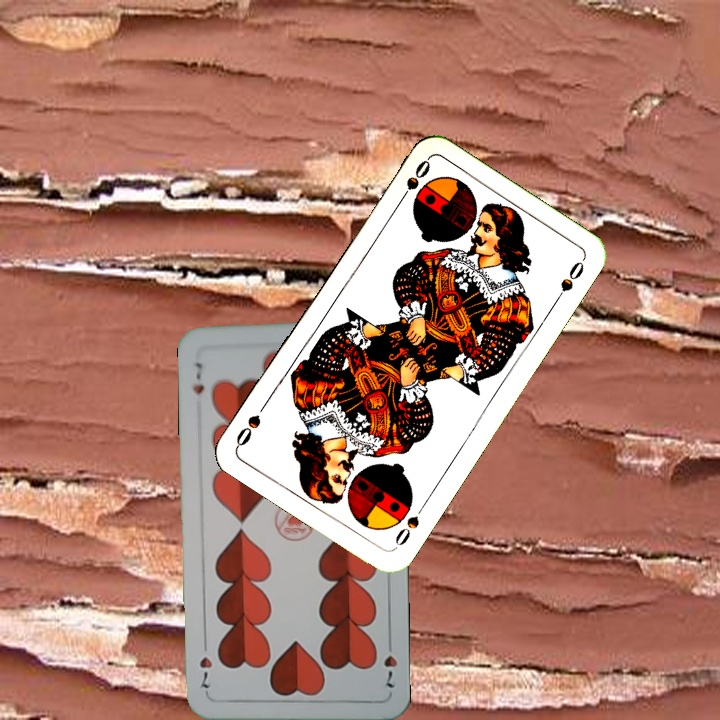H7: (380, 634, 399, 690), (189, 359, 207, 397)
SO: (393, 155, 433, 208), (390, 499, 428, 552)
